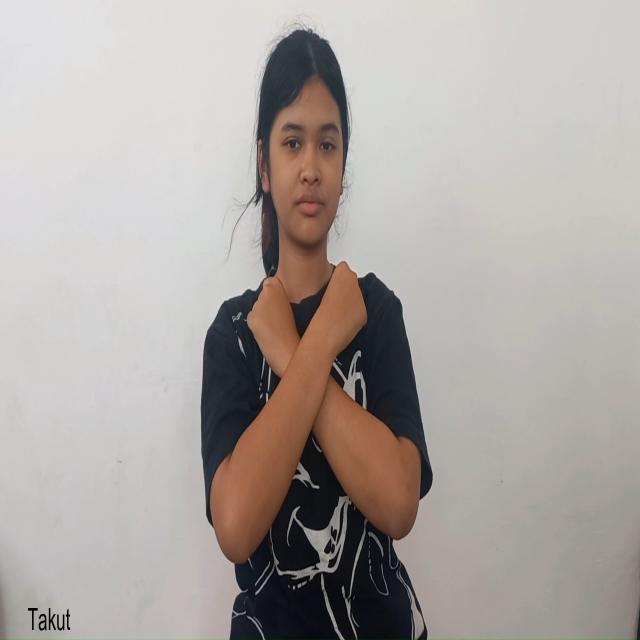Takut -BISINDO-: (236, 258, 394, 497)
